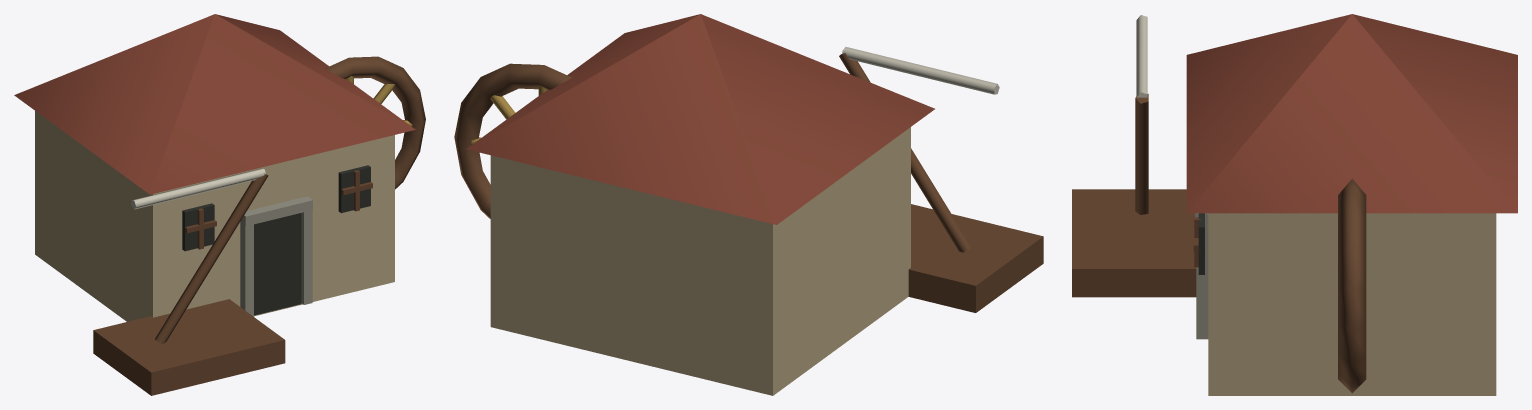
Rendered from custom-wonder-leonardo.glb.
3 views of the same model, side by side, from view 1: azimuth 30°, elevation 25°; view 2: azimuth 150°, elevation 25°; view 3: azimuth 270°, elevation 25° (orthographic). The views are drawn at different scales.
Parts seen in each view (by area): view 1: custom-wonder-leonardo; view 2: custom-wonder-leonardo; view 3: custom-wonder-leonardo.
Boxes of the visible parts, x1=… form: custom-wonder-leonardo: x1=14, y1=14, x2=425, y2=395; custom-wonder-leonardo: x1=454, y1=14, x2=1043, y2=395; custom-wonder-leonardo: x1=1072, y1=14, x2=1517, y2=395.
Size of the model in its own units: 1 by 0.6237 by 0.8131.
